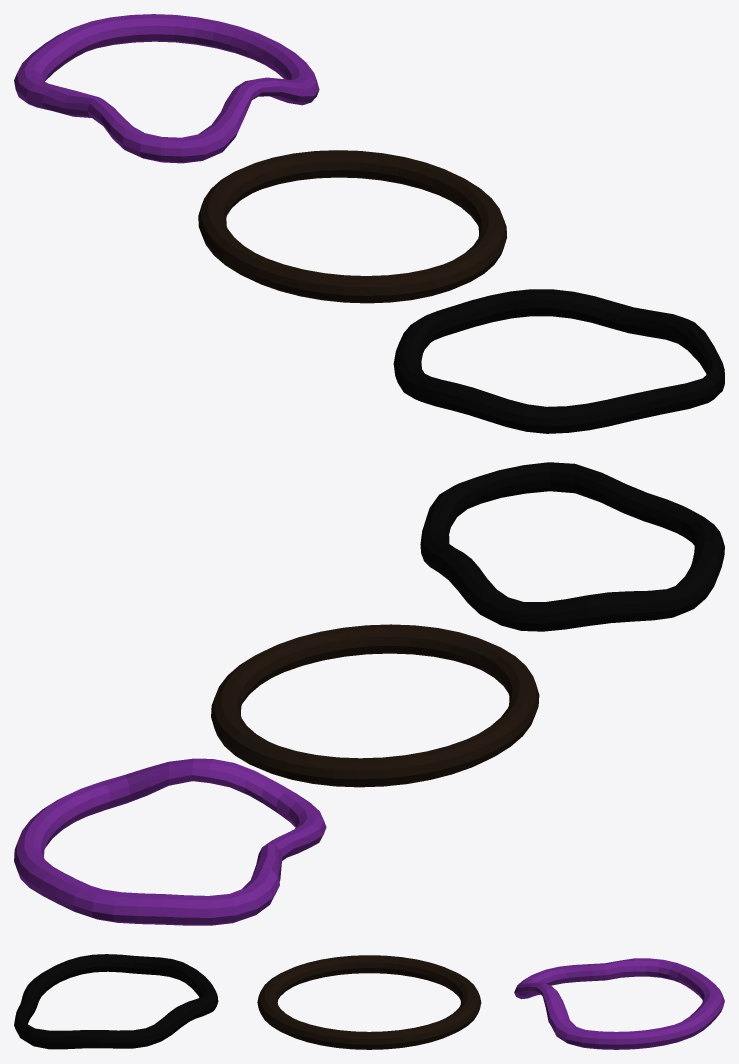
Rendered from hairTie.fbx.
3 renders of one model, top to bottom at view 1: azimuth 30°, elevation 25°; view 2: azimuth 150°, elevation 25°; view 3: azimuth 270°, elevation 25°, orthographic. The views are drawn at different scales.
Parts seen in each view (by area): view 1: hairTie1, hairTie2, hairTie3; view 2: hairTie2, hairTie1, hairTie3; view 3: hairTie2, hairTie1, hairTie3.
Boxes of the visible parts, box(x1,y1,x2,y2) form: hairTie1: box(393, 289, 724, 433); hairTie2: box(198, 150, 506, 303); hairTie3: box(14, 14, 319, 163); hairTie2: box(211, 624, 539, 787); hairTie1: box(420, 462, 724, 631); hairTie3: box(14, 758, 326, 925); hairTie2: box(257, 955, 481, 1049); hairTie1: box(14, 954, 218, 1049); hairTie3: box(514, 958, 724, 1049).
Size of the model in its own units: 275 by 48.32 by 931.
